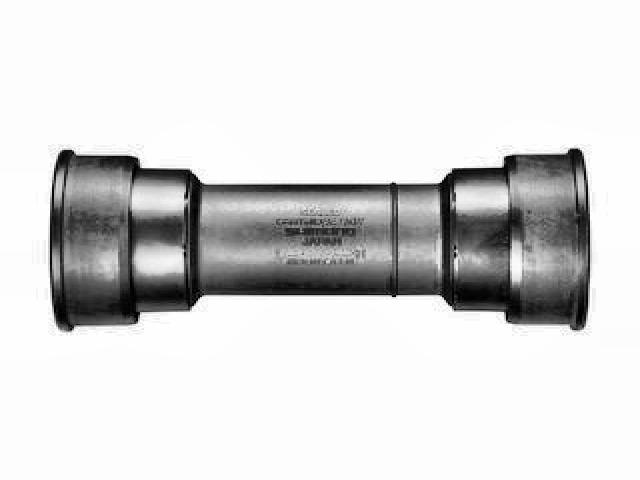bottom_bracket: (44, 144, 592, 332)
